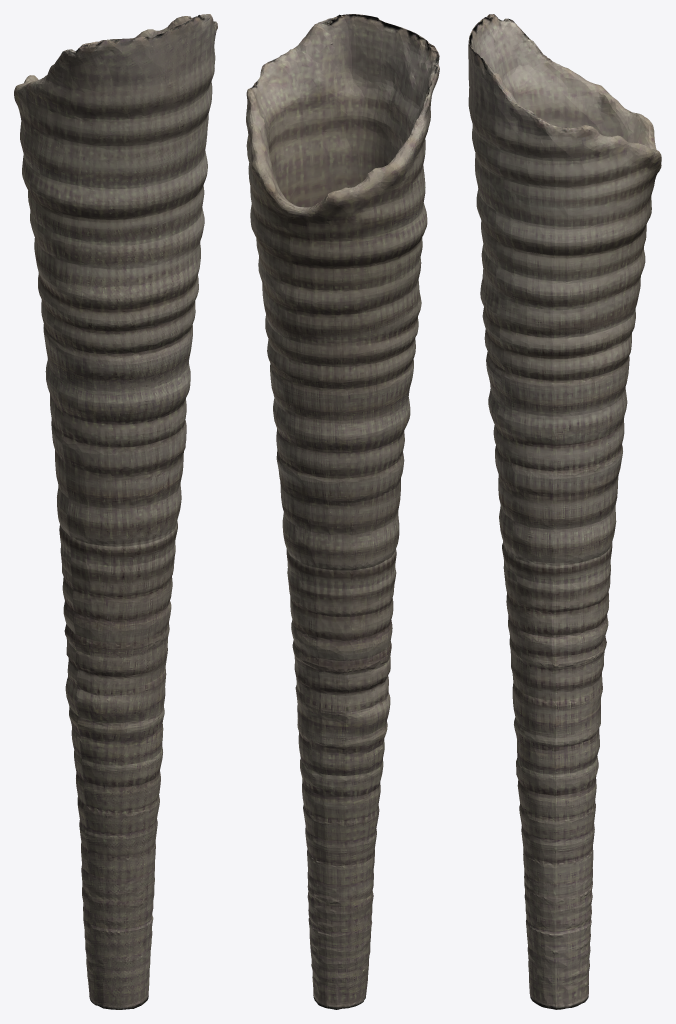
3 views of the same model, side by side, from view 1: azimuth 30°, elevation 25°; view 2: azimuth 150°, elevation 25°; view 3: azimuth 270°, elevation 25° (orthographic). The views are drawn at different scales.
Parts seen in each view (by area): view 1: world; view 2: world; view 3: world.
Part boxes in pixels (bbox=[...]): world: bbox=[14, 14, 217, 1009]; world: bbox=[246, 14, 439, 1009]; world: bbox=[468, 14, 661, 1009].
Size of the model in its own units: 0.1833 by 0.9989 by 0.1825.
Materials: 1 (1 with a texture image).
